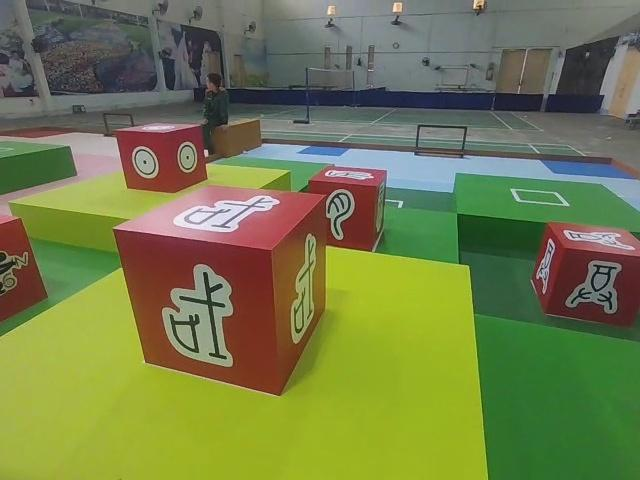R2 Fake: (306, 163, 389, 255)
R2 Real: (108, 181, 330, 399), (527, 218, 640, 331), (113, 120, 210, 195)
